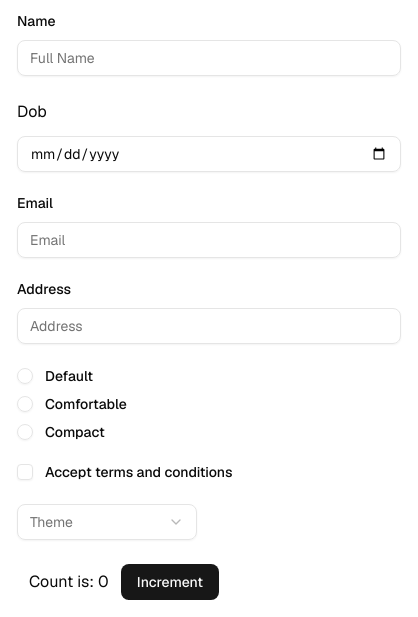
Test case: Name textbox › select
This screenshot has width=418, height=617.
Step 1. Click the dropdown with test id "select-1" → coordinates (107, 522), box [17,504,197,540]
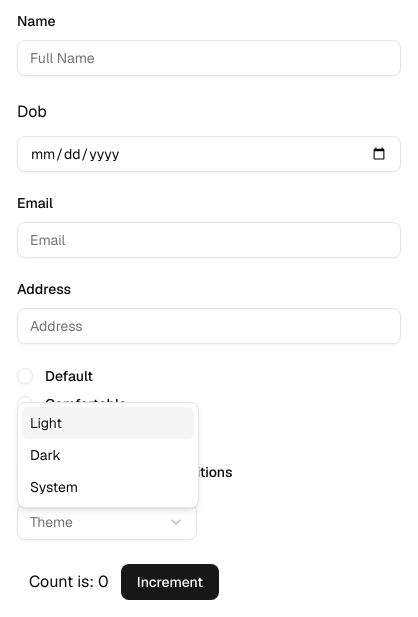
Now the list with test id "select-content" is shown, box [17,402,199,508]
Now the text "System" is shown, box [30,477,78,497]
Step 2. Click the option "Dark" → coordinates (45, 455), box [30,446,61,464]
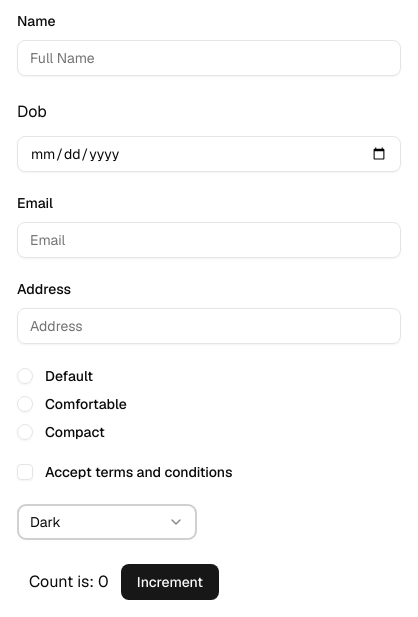
Now the option "System" is gone
Now the text "Dark" is shown, box [30,512,61,532]
